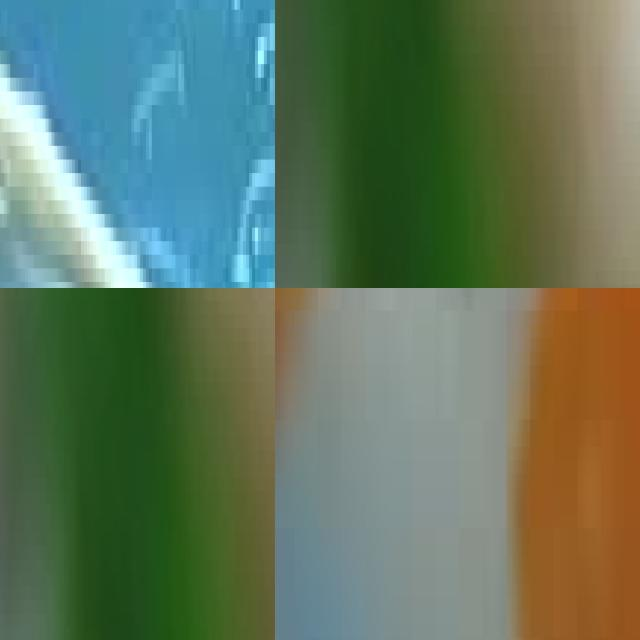fish: (275, 288, 640, 640), (0, 0, 275, 288)
